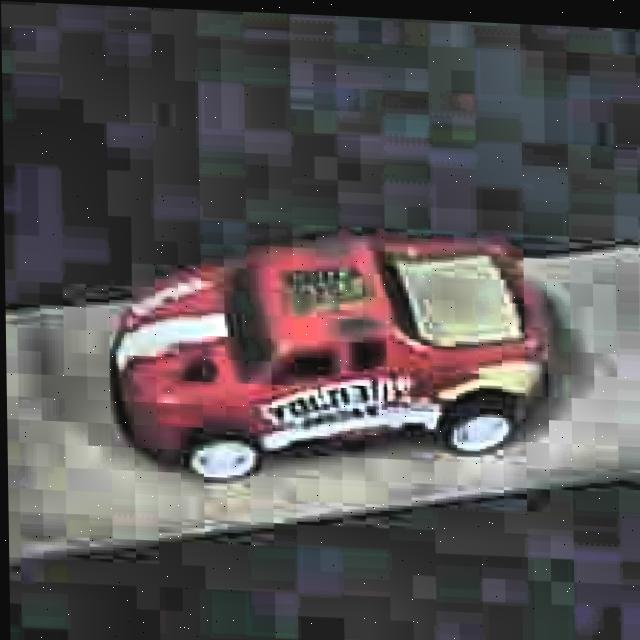car: (101, 217, 563, 501)
